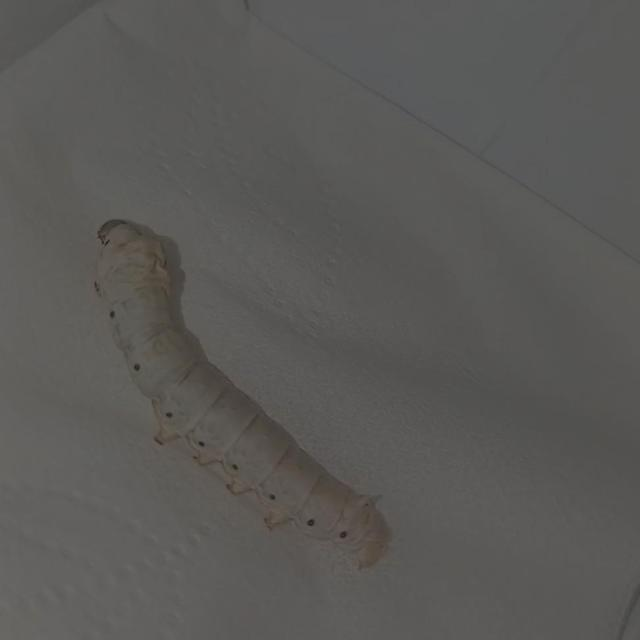Healthy: (82, 207, 394, 573)
